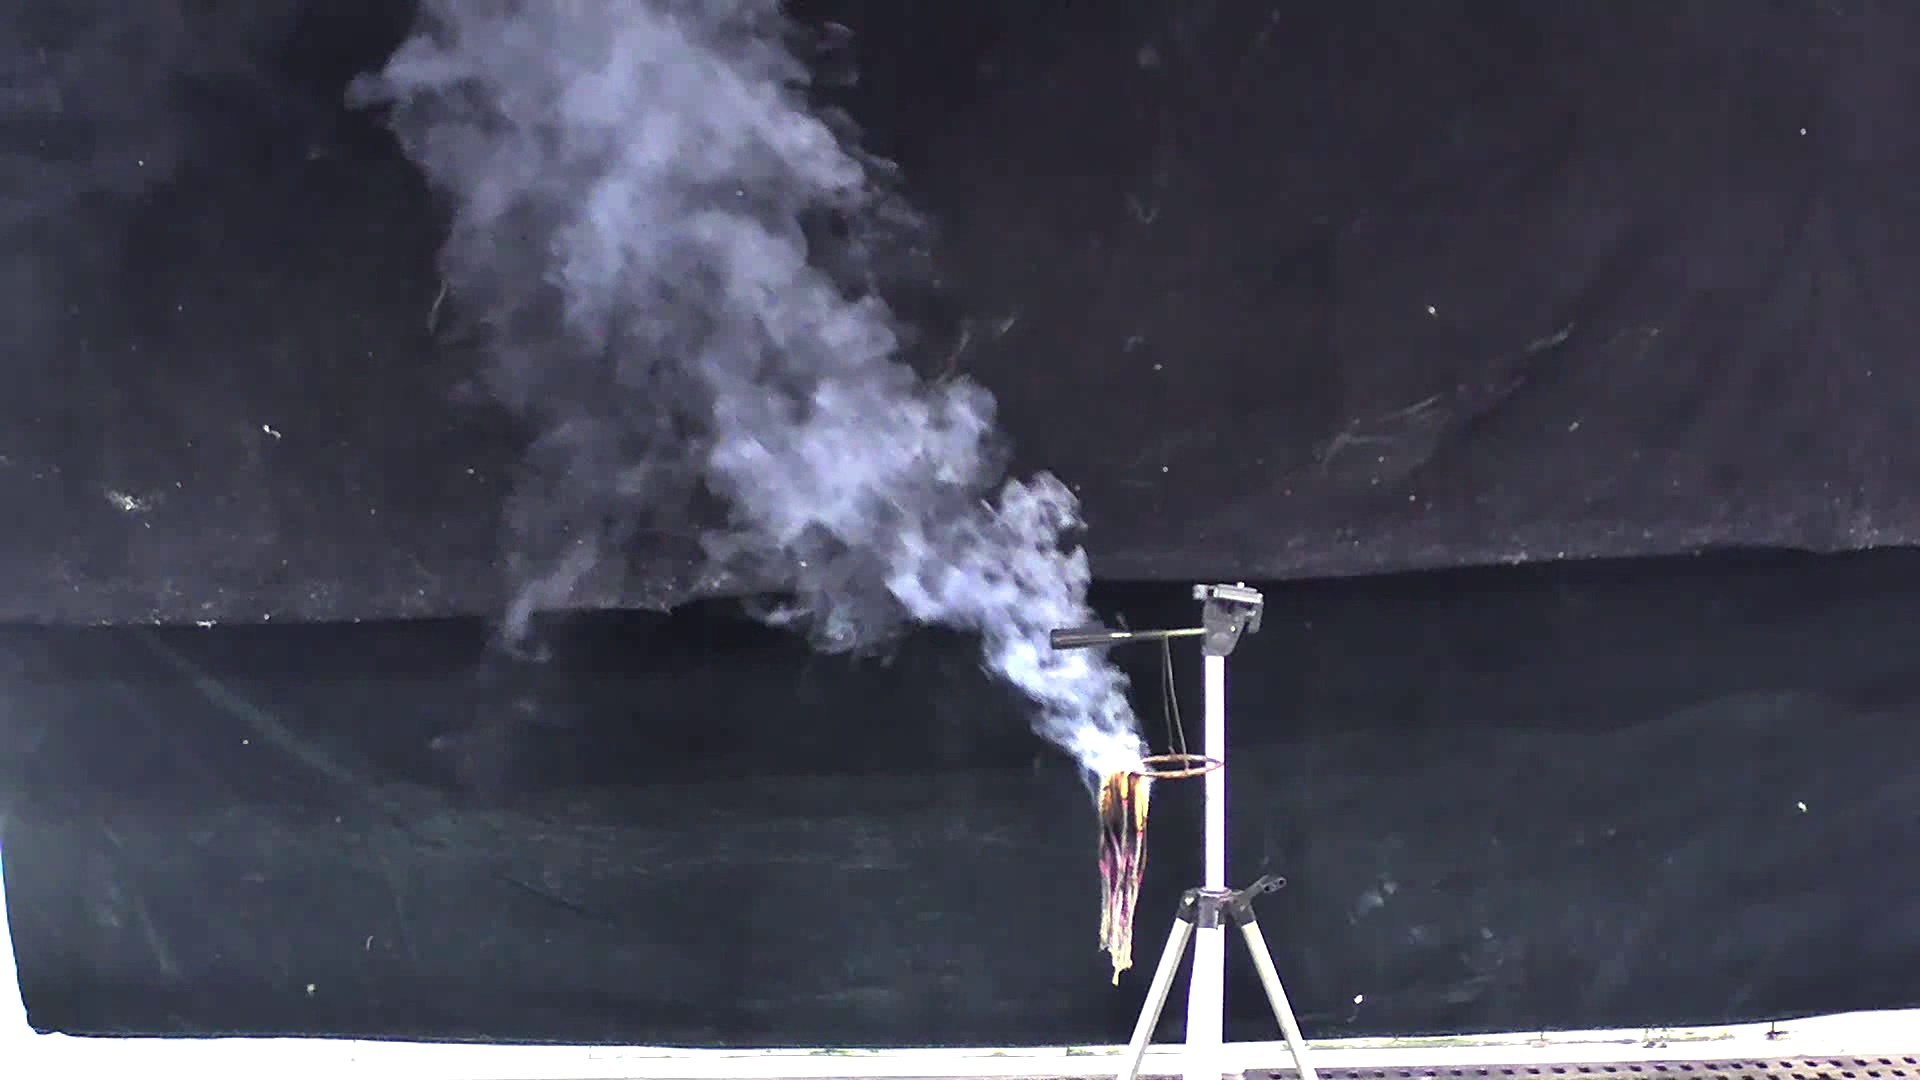smoke: (373, 9, 1174, 808)
